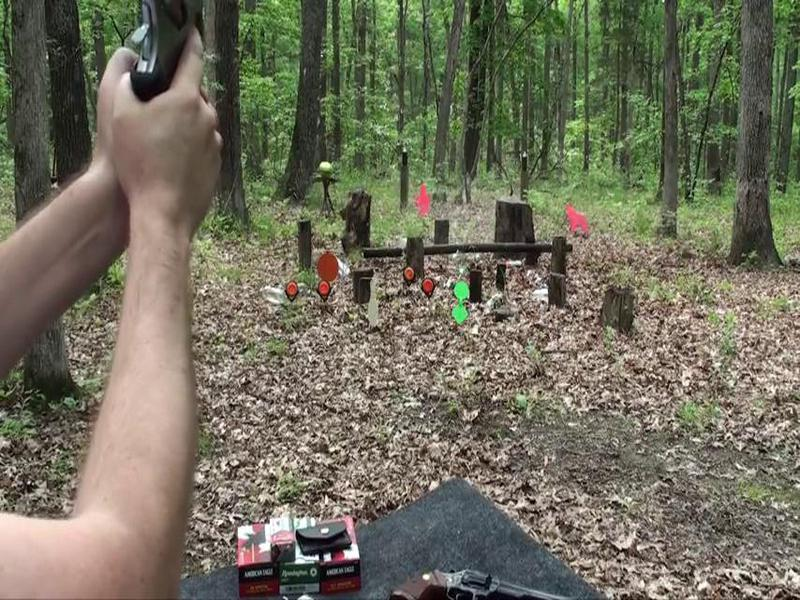Revolver: (372, 538, 587, 600)
